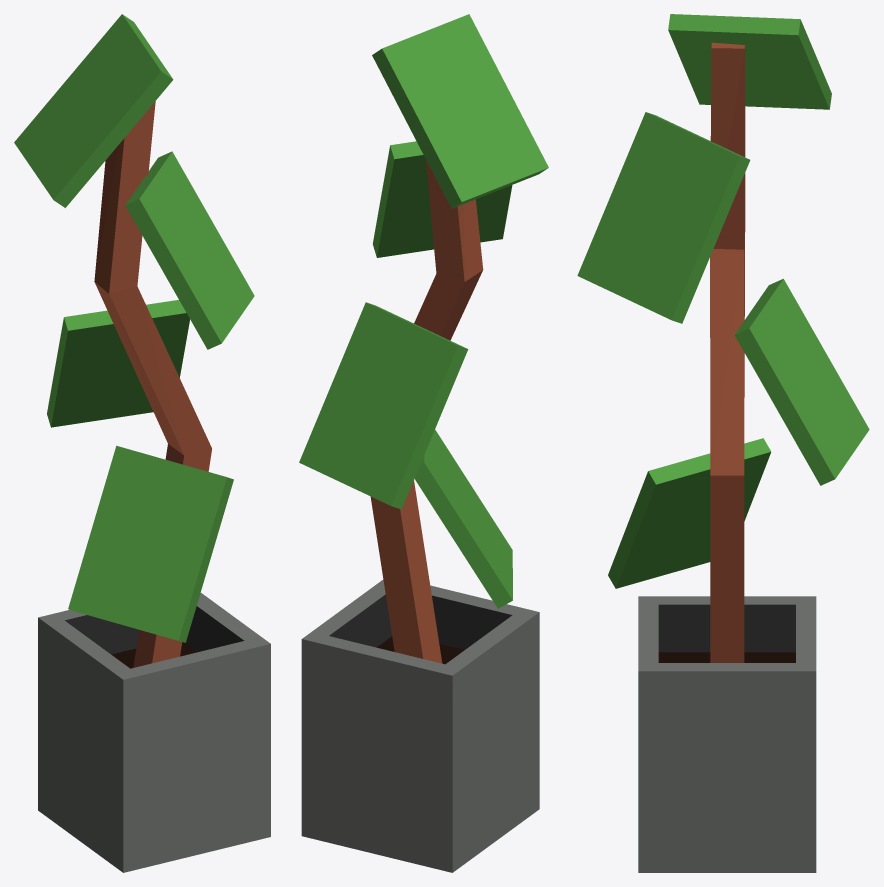
The model's file is plant.fbx.
3 renders of one model, left to right at view 1: azimuth 30°, elevation 25°; view 2: azimuth 150°, elevation 25°; view 3: azimuth 270°, elevation 25°, orthographic. The views are drawn at different scales.
Visible parts, largest first — view 1: polySurface1; view 2: polySurface1; view 3: polySurface1.
Part boxes in pixels (x1,y1,x2,y2): polySurface1: [14, 14, 270, 872]; polySurface1: [299, 14, 548, 872]; polySurface1: [577, 14, 869, 872].
Bounding box in the file's own units: 6.34 × 25.35 × 8.21.
Materials: 1 (1 with a texture image).
